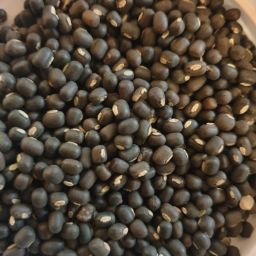Black Gram(urad daal): (3, 7, 256, 256), (34, 40, 146, 252), (155, 44, 248, 256)
